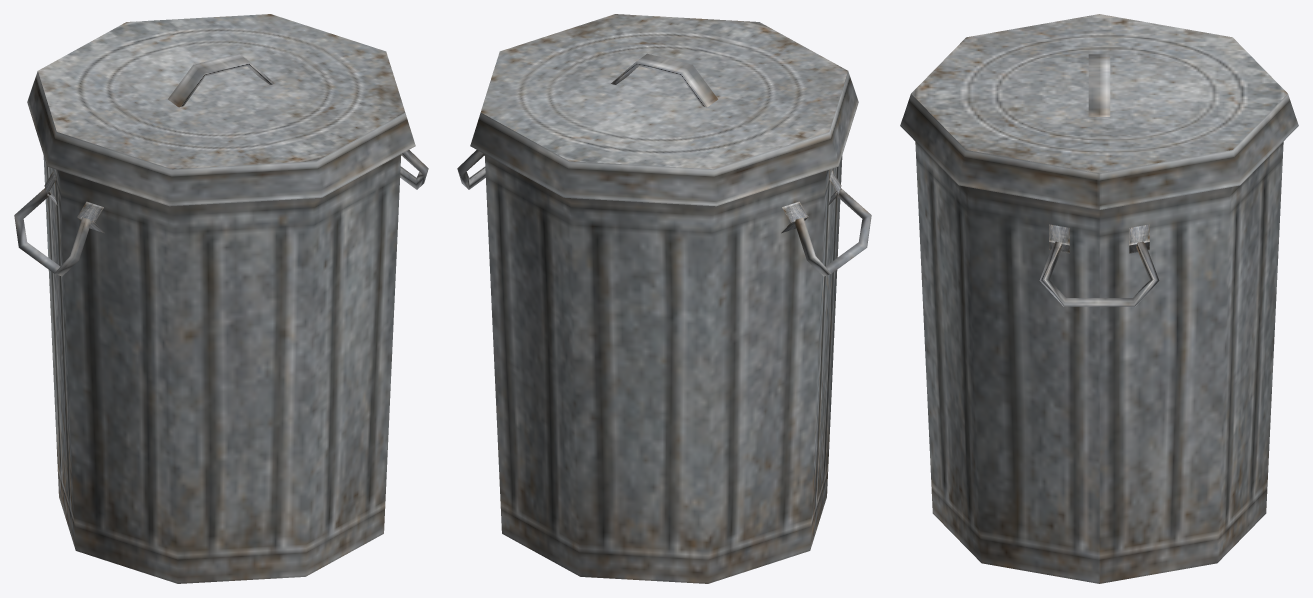
Rendered from galvanised-rubbish-bin.obj.
3 views of the same model, side by side, from view 1: azimuth 30°, elevation 25°; view 2: azimuth 150°, elevation 25°; view 3: azimuth 270°, elevation 25° (orthographic).
Parts seen in each view (by area): view 1: galvanised-rubbish-bin; view 2: galvanised-rubbish-bin; view 3: galvanised-rubbish-bin.
Part boxes in pixels (x1,y1,x2,y2): galvanised-rubbish-bin: (14, 14, 428, 583); galvanised-rubbish-bin: (457, 14, 871, 583); galvanised-rubbish-bin: (900, 14, 1298, 583).
Size of the model in its own units: 0.584 by 0.6818 by 0.55.
Materials: 1 (1 with a texture image).
